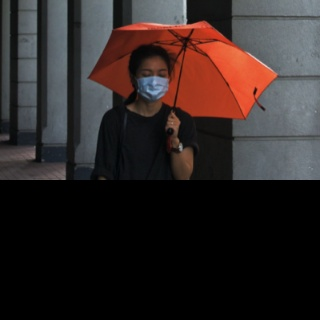with_mask: (135, 67, 170, 102)
